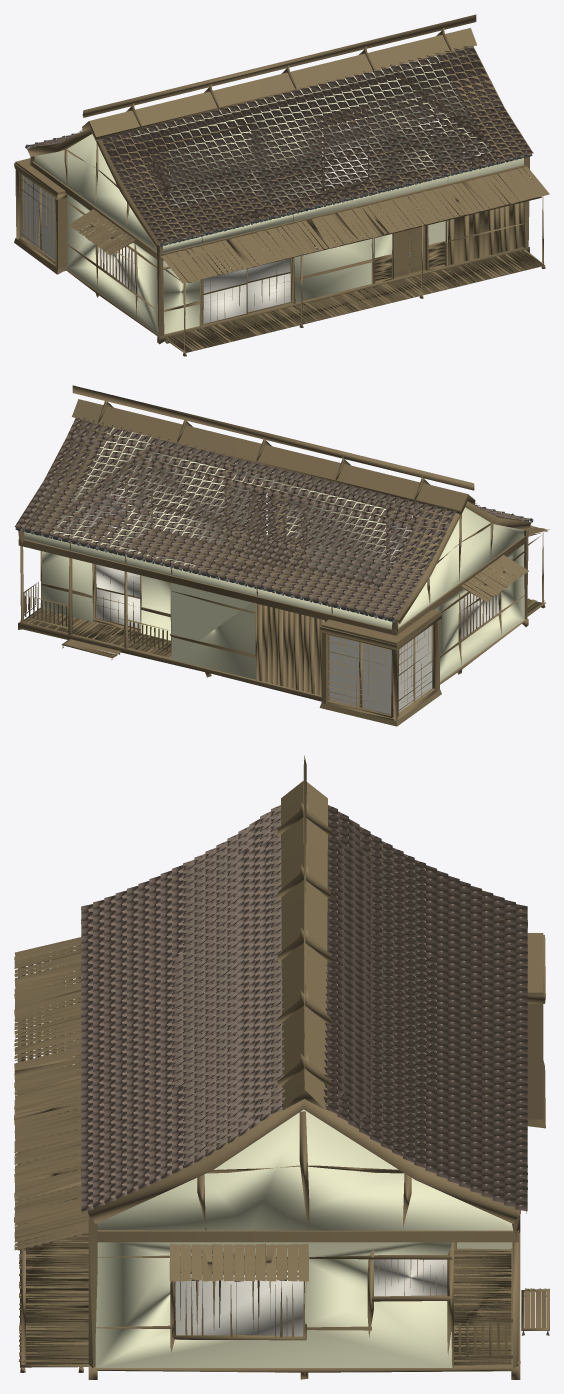
File: JapaneseVillageHouse.fbx
3 views of the same model, one above another, from view 1: azimuth 30°, elevation 25°; view 2: azimuth 150°, elevation 25°; view 3: azimuth 270°, elevation 25° (orthographic). The views are drawn at different scales.
Visible parts, largest first — view 1: JapaneseHouse; view 2: JapaneseHouse; view 3: JapaneseHouse.
Part boxes in pixels (x1=…): JapaneseHouse: x1=14, y1=14, x2=549, y2=356; JapaneseHouse: x1=14, y1=385, x2=549, y2=726; JapaneseHouse: x1=14, y1=755, x2=549, y2=1379.
Size of the model in its own units: 1140 by 495 by 758.
